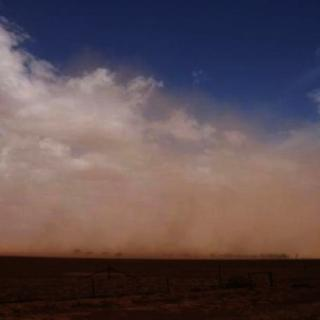Cumulus: (0, 0, 320, 269)
